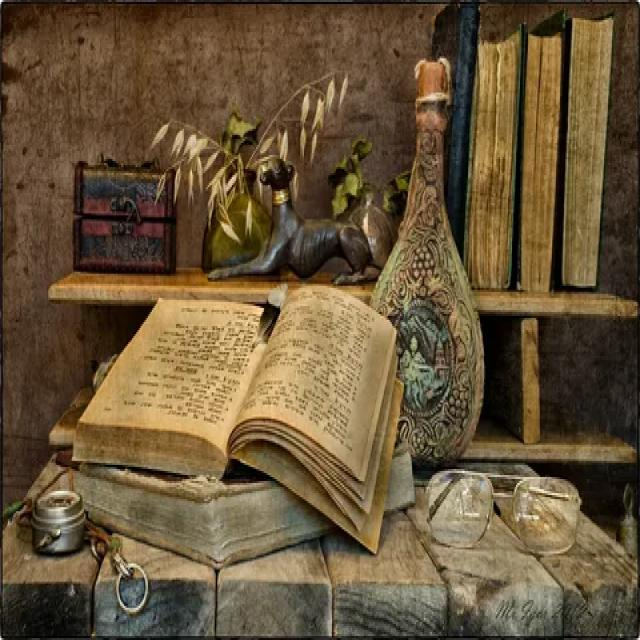book: (68, 269, 427, 559)
